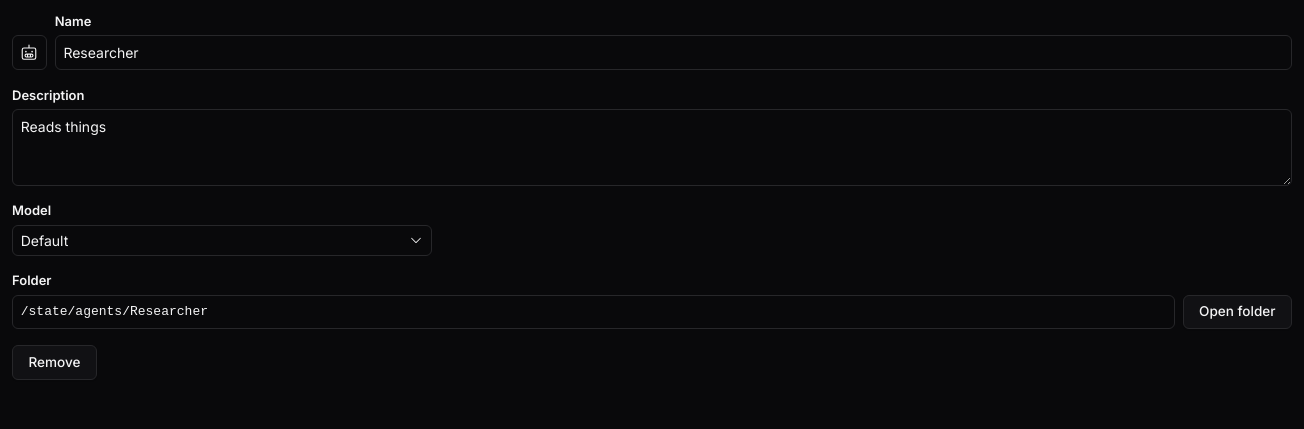
Test case: ProfileTab › test Profile saves the name with the revision and reloads on 409
Replace the text in the field labelled "Name" with "Reader" at [673, 53], box [55,35,1292,70]
Then press Enter
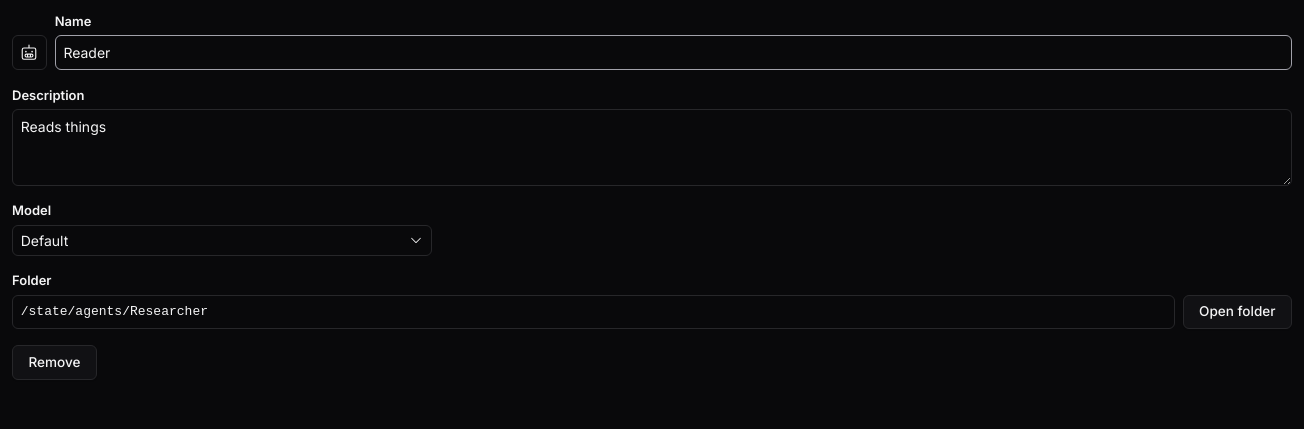
Type "!" into the text box labelled "Description" at [652, 147], box [12,109,1292,186]
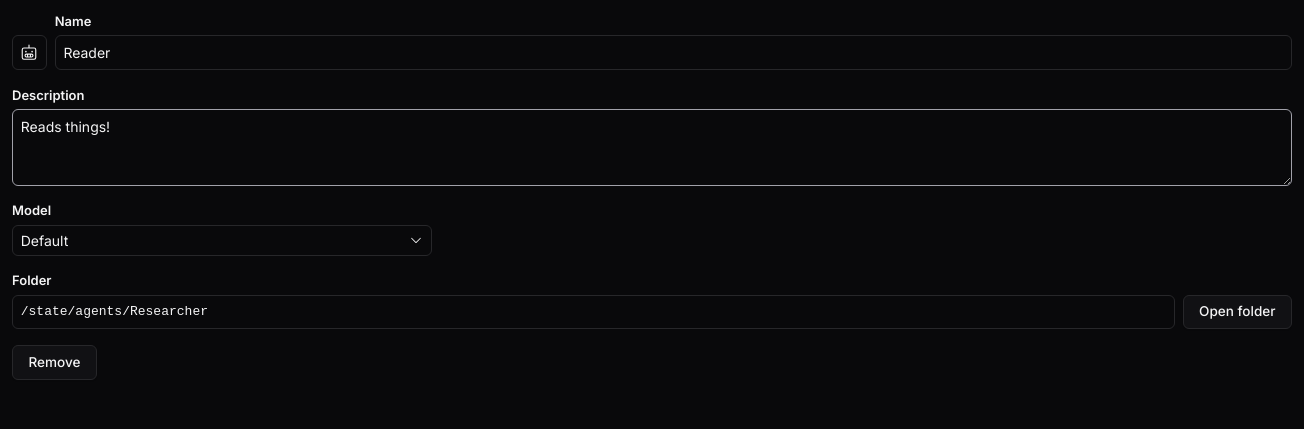
Press Tab
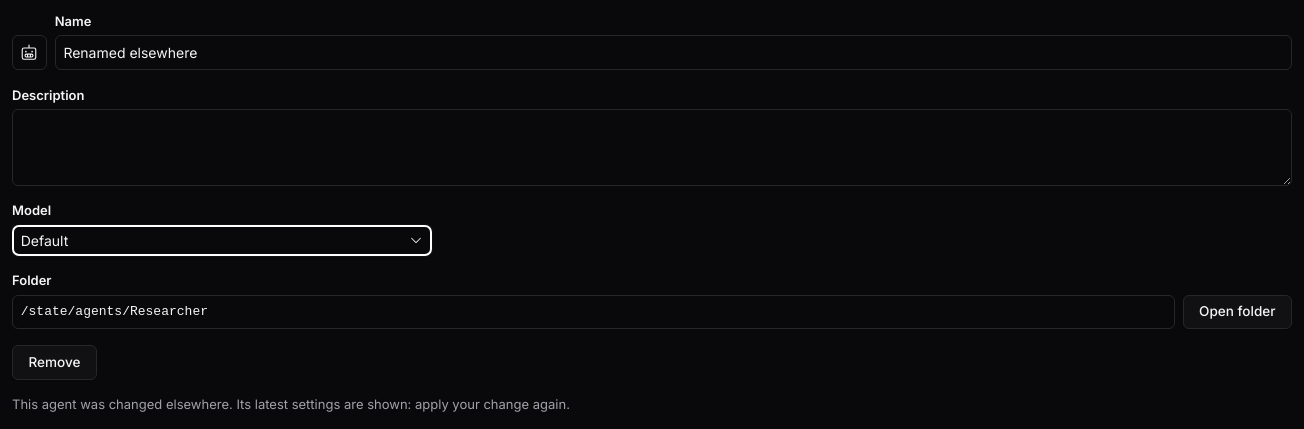
Expected: the message shows "This agent was changed elsewhere. Its latest settings are shown: apply your change again.", [12,396,570,412]
Expected: the field labelled "Name" holds "Renamed elsewhere", [55,35,1292,70]
